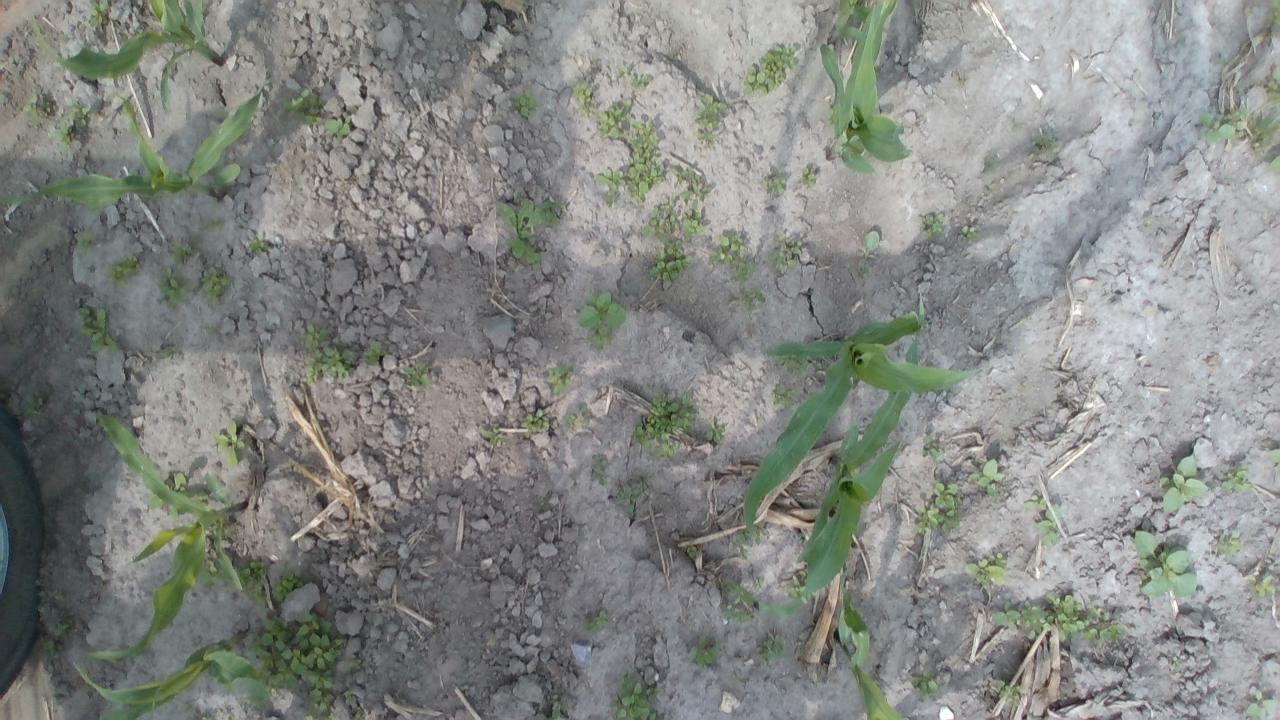Maize: (734, 289, 924, 614), (742, 311, 982, 535), (87, 412, 247, 664), (0, 64, 266, 209), (27, 0, 225, 119), (72, 626, 270, 720), (818, 0, 911, 178), (823, 594, 908, 720)
Weeds: (1132, 530, 1200, 598), (632, 390, 697, 460), (292, 609, 344, 690), (250, 614, 300, 690), (624, 118, 666, 203), (1160, 455, 1213, 516), (496, 197, 542, 267), (743, 45, 799, 99), (911, 479, 962, 534), (610, 671, 662, 720), (991, 600, 1048, 640), (649, 232, 692, 285), (1197, 104, 1251, 146), (708, 232, 754, 281), (576, 289, 627, 331), (78, 306, 120, 357), (1080, 602, 1127, 646), (160, 473, 210, 512), (1044, 592, 1083, 642), (303, 346, 352, 385), (614, 472, 652, 520), (55, 98, 87, 153), (968, 458, 1008, 501), (962, 552, 1006, 591), (282, 88, 325, 125), (214, 420, 246, 468), (236, 560, 267, 606), (719, 582, 753, 623), (671, 166, 713, 198), (643, 199, 679, 236), (597, 98, 631, 137), (199, 266, 233, 304), (768, 234, 801, 273), (734, 521, 768, 558), (105, 254, 139, 290), (854, 232, 880, 278), (688, 634, 721, 670), (756, 632, 788, 668), (160, 266, 188, 307), (1037, 504, 1063, 548), (596, 168, 625, 207), (274, 567, 306, 602), (785, 568, 816, 604), (1251, 116, 1280, 154), (694, 94, 726, 128), (544, 362, 576, 396), (1243, 688, 1279, 718), (305, 689, 339, 720), (1028, 130, 1060, 162), (680, 198, 704, 240), (1222, 462, 1252, 494), (22, 93, 52, 125), (571, 82, 597, 118), (197, 559, 226, 589), (910, 668, 939, 698), (520, 408, 548, 438), (512, 90, 540, 119), (770, 384, 799, 412), (996, 678, 1025, 706), (86, 0, 110, 33), (762, 169, 791, 196), (739, 284, 765, 314), (586, 324, 613, 352), (300, 324, 328, 351), (540, 197, 566, 226), (21, 390, 48, 417), (920, 210, 948, 236), (778, 352, 808, 376), (589, 454, 610, 488), (324, 115, 352, 139), (408, 360, 432, 388), (1217, 530, 1242, 556), (481, 423, 508, 447), (1248, 574, 1276, 596), (364, 341, 390, 364), (920, 434, 942, 461), (170, 239, 192, 266), (1020, 493, 1050, 511), (73, 229, 95, 253), (704, 420, 725, 444), (548, 694, 567, 720), (960, 222, 983, 243), (1267, 66, 1280, 103), (588, 610, 610, 631), (577, 400, 594, 426), (248, 236, 269, 257), (694, 130, 719, 146), (799, 167, 817, 187), (982, 151, 998, 173), (53, 618, 72, 636), (147, 492, 166, 510), (629, 74, 653, 88), (162, 344, 182, 360), (1269, 0, 1280, 27), (180, 703, 200, 717), (1269, 444, 1280, 469), (1268, 152, 1280, 174), (562, 413, 582, 426), (44, 638, 58, 656), (348, 652, 362, 670), (343, 690, 356, 708), (686, 540, 698, 559), (168, 506, 182, 522), (207, 218, 221, 234), (826, 105, 836, 126), (206, 519, 220, 534), (1170, 656, 1183, 672), (614, 66, 630, 78), (350, 708, 365, 720), (755, 576, 765, 590), (190, 234, 203, 244), (984, 185, 996, 195), (60, 33, 70, 44), (200, 714, 214, 720), (1142, 220, 1150, 226)
